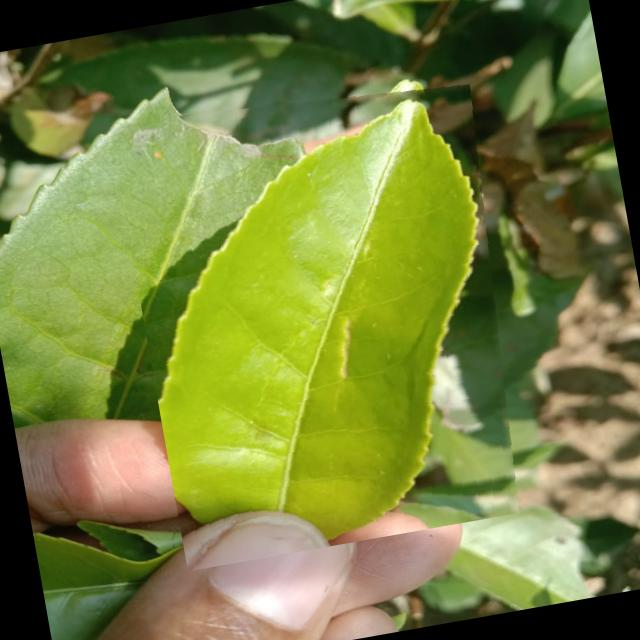Category B(2-4 days): (108, 60, 544, 571)
